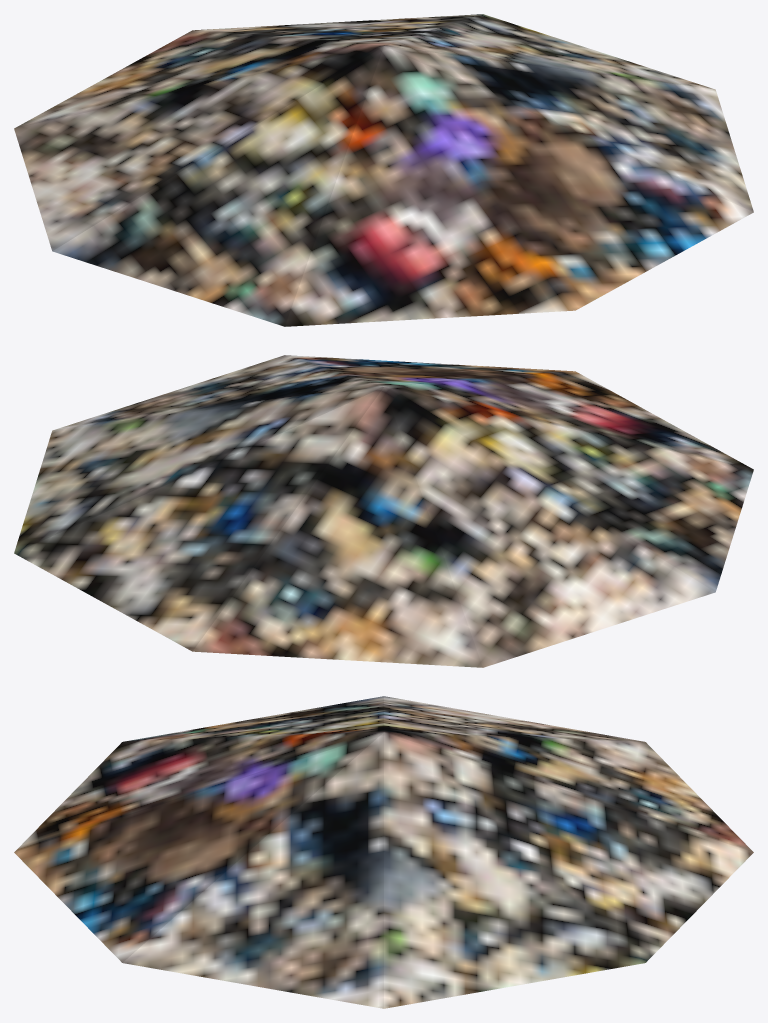
Rendered from trashcantrash.glb.
3 renders of one model, top to bottom at view 1: azimuth 30°, elevation 25°; view 2: azimuth 150°, elevation 25°; view 3: azimuth 270°, elevation 25°, orthographic. The views are drawn at different scales.
Visible parts, largest first — view 1: TrashCanTrash; view 2: TrashCanTrash; view 3: TrashCanTrash.
Part boxes in pixels (bbox=[...]): TrashCanTrash: bbox=[14, 14, 753, 326]; TrashCanTrash: bbox=[14, 355, 753, 667]; TrashCanTrash: bbox=[14, 696, 753, 1008].
Bounding box in the file's own units: 0.576 × 0.1032 × 0.576.
Materials: 1 (1 with a texture image).
